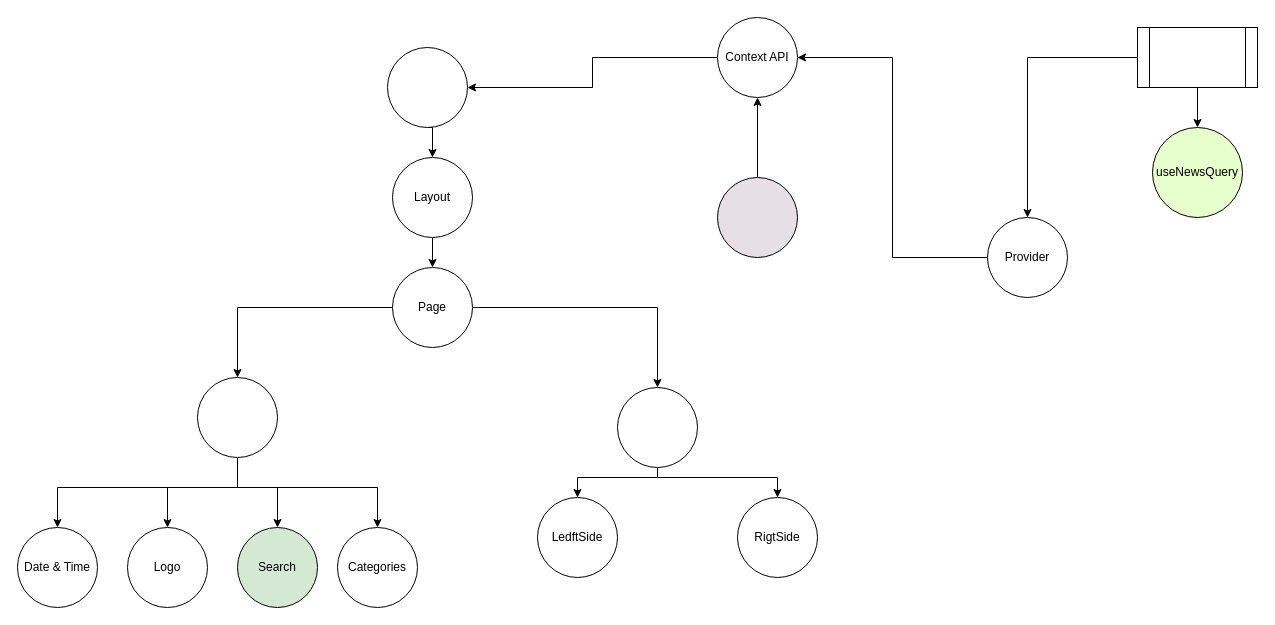
The diagram is 1275 pixels wide and 625 high, and some of its shapes have lost their labels. Each missing label, with the box of its shape:
App: (386, 46, 468, 128)
Hooks: (1136, 26, 1258, 88)
NavBar: (196, 376, 278, 458)
NewsBoard: (616, 386, 698, 468)
NewsContext: (716, 176, 798, 258)
